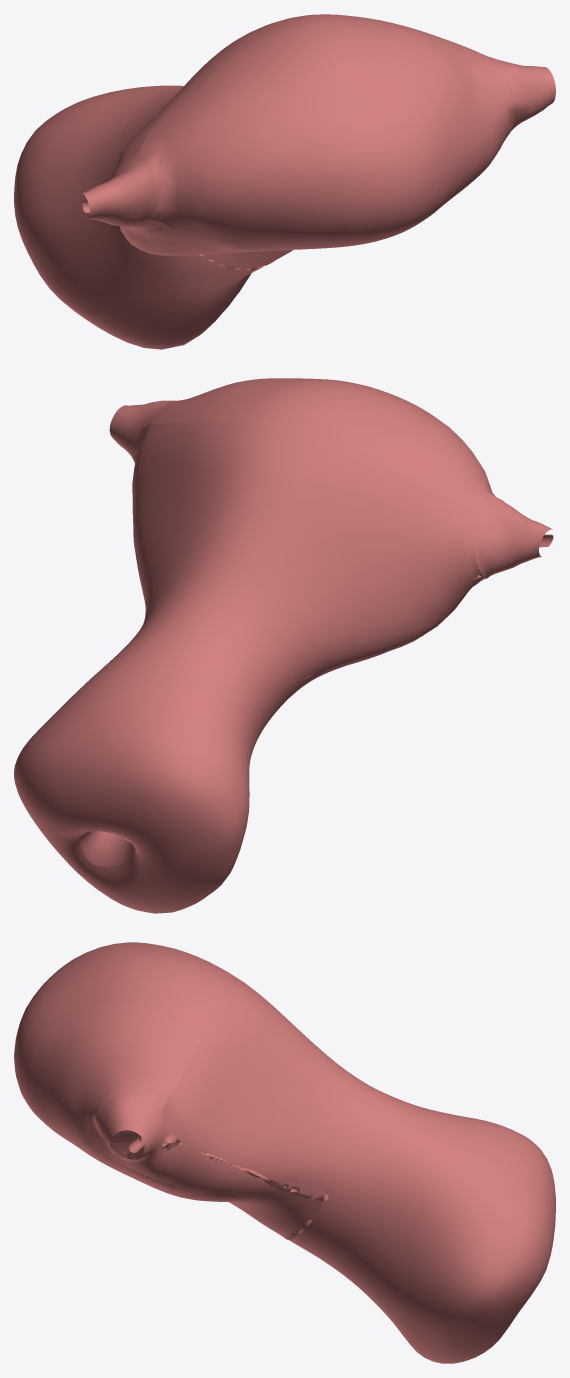
Rendered from uterus.glb.
3 renders of one model, top to bottom at view 1: azimuth 30°, elevation 25°; view 2: azimuth 150°, elevation 25°; view 3: azimuth 270°, elevation 25°, orthographic. The views are drawn at different scales.
Parts seen in each view (by area): view 1: VH_F_fundus_of_uterus, VH_F_cervix, VH_F_cornua, VH_F_posterior_wall_of_uterus, VH_F_lower_uterine_segment, VH_F_body_of_uterus; view 2: VH_F_body_of_uterus, VH_F_cervix, VH_F_fundus_of_uterus, VH_F_lower_uterine_segment, VH_F_cornua, VH_F_external_cervical_os; view 3: VH_F_cervix, VH_F_body_of_uterus, VH_F_fundus_of_uterus, VH_F_lower_uterine_segment, VH_F_posterior_wall_of_uterus, VH_F_cornua, VH_F_anterior_wall_of_uterus.
Part boxes in pixels (left/top/right/bottom): VH_F_fundus_of_uterus: left=132, top=14, right=516, bottom=248; VH_F_cervix: left=14, top=85, right=251, bottom=349; VH_F_cornua: left=82, top=58, right=555, bottom=227; VH_F_posterior_wall_of_uterus: left=140, top=146, right=501, bottom=269; VH_F_lower_uterine_segment: left=119, top=87, right=262, bottom=284; VH_F_body_of_uterus: left=114, top=18, right=511, bottom=268; VH_F_body_of_uterus: left=132, top=421, right=486, bottom=695; VH_F_cervix: left=14, top=642, right=261, bottom=913; VH_F_fundus_of_uterus: left=142, top=378, right=495, bottom=513; VH_F_lower_uterine_segment: left=124, top=600, right=296, bottom=737; VH_F_cornua: left=109, top=400, right=552, bottom=578; VH_F_external_cervical_os: left=79, top=831, right=136, bottom=866; VH_F_cervix: left=332, top=1106, right=555, bottom=1363; VH_F_body_of_uterus: left=112, top=962, right=366, bottom=1213; VH_F_fundus_of_uterus: left=14, top=942, right=217, bottom=1163; VH_F_lower_uterine_segment: left=289, top=1083, right=419, bottom=1266; VH_F_posterior_wall_of_uterus: left=40, top=1119, right=326, bottom=1239; VH_F_cornua: left=95, top=942, right=164, bottom=1164; VH_F_anterior_wall_of_uterus: left=162, top=1134, right=328, bottom=1199.
Bounding box in the file's own units: 0.0525 × 0.047 × 0.0587.
